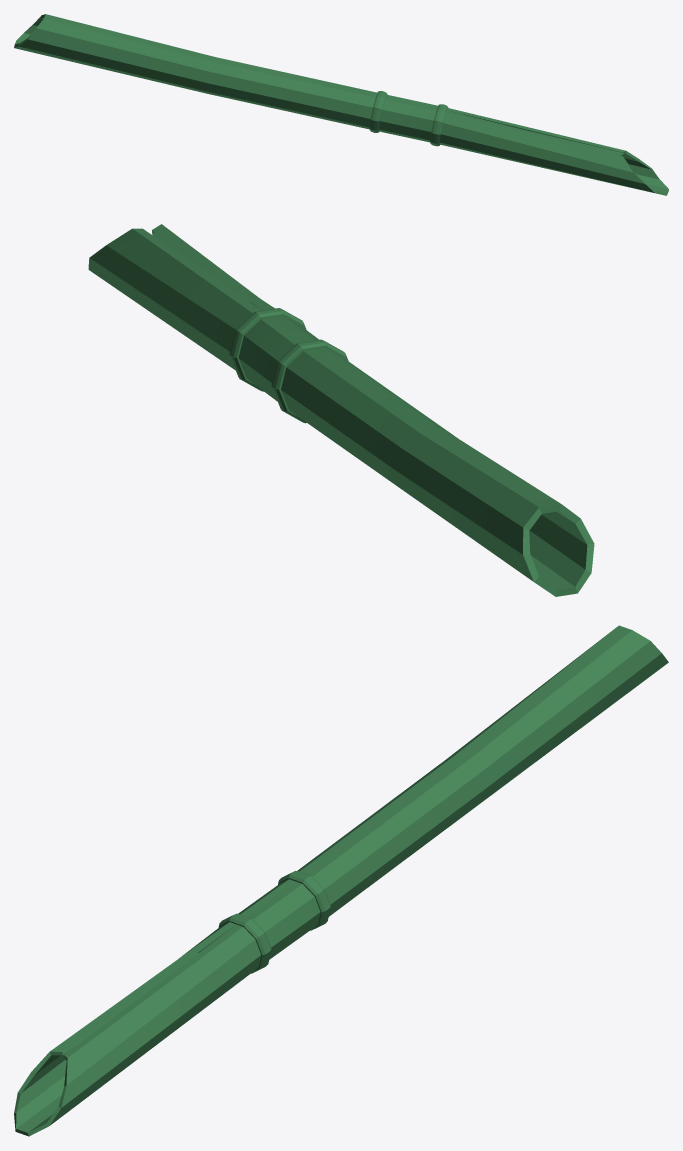
File: bambooPiece.fbx
The picture shows the model from 3 angles, top to bottom: view 1: azimuth 30°, elevation 25°; view 2: azimuth 150°, elevation 25°; view 3: azimuth 270°, elevation 25°; orthographic projection. The views are drawn at different scales.
Parts seen in each view (by area): view 1: bambooPiece; view 2: bambooPiece; view 3: bambooPiece.
Boxes of the visible parts, x1,y1,x2,y2 form: bambooPiece: (14, 14, 668, 195); bambooPiece: (88, 224, 594, 596); bambooPiece: (14, 625, 668, 1136).
Bounding box in the file's own units: 0.533 × 0.1504 × 0.4505.
